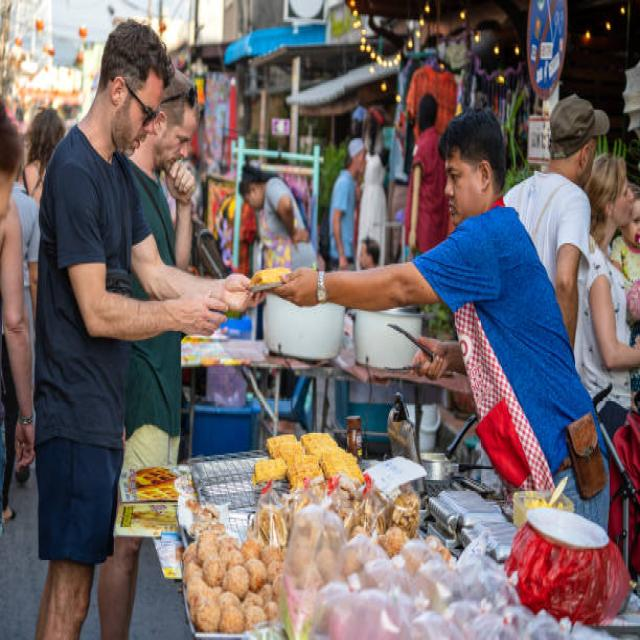Emperan: (110, 227, 640, 640)
